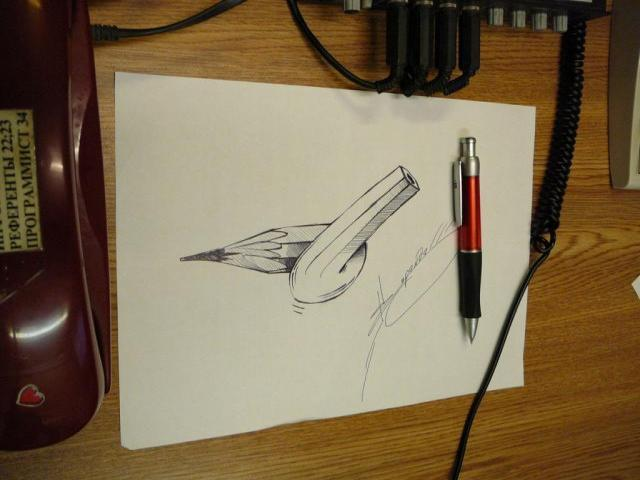PEN: (435, 131, 501, 347)
